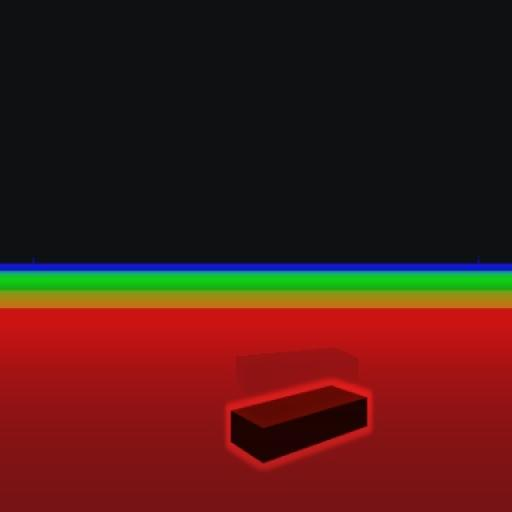debris_container: (226, 380, 372, 467)
